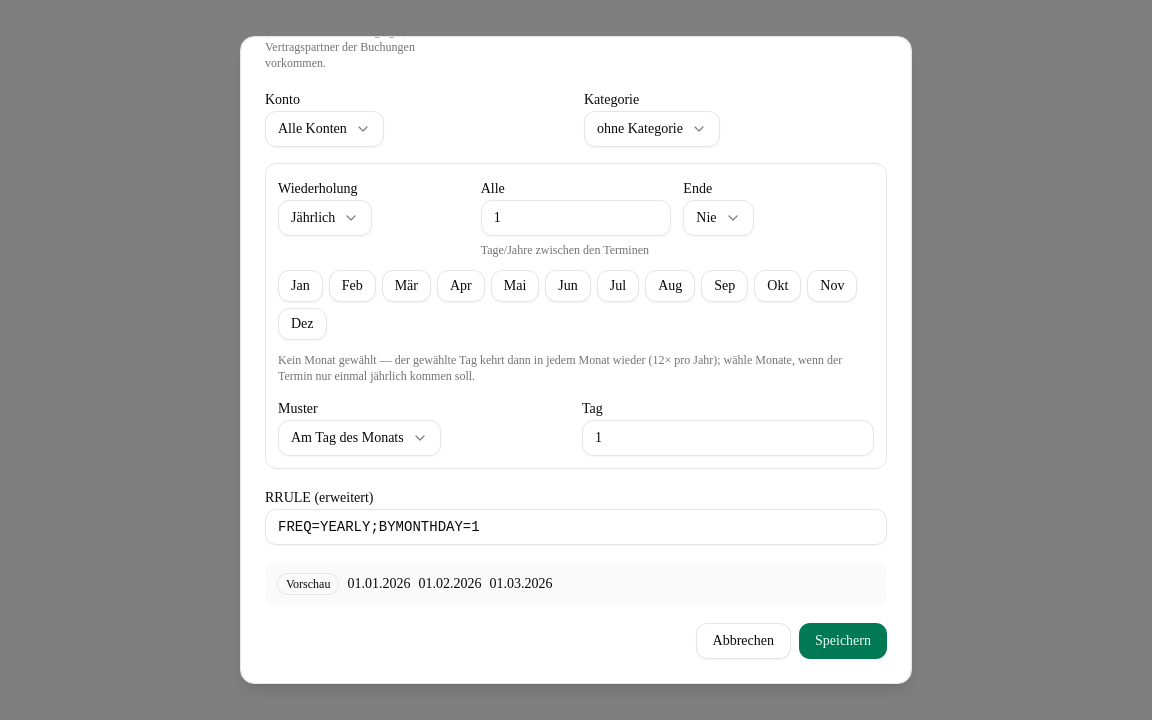
Test: plan dialog: invalid builder input must not crash the page › yearly garbage in the Tag field is contained the same way
The width and height of the screenshot is (1152, 720).
(page scrolled)
Step 1. Replace the text in the field labelled "Tag" with "45" → (728, 438), box [582,420,874,456]
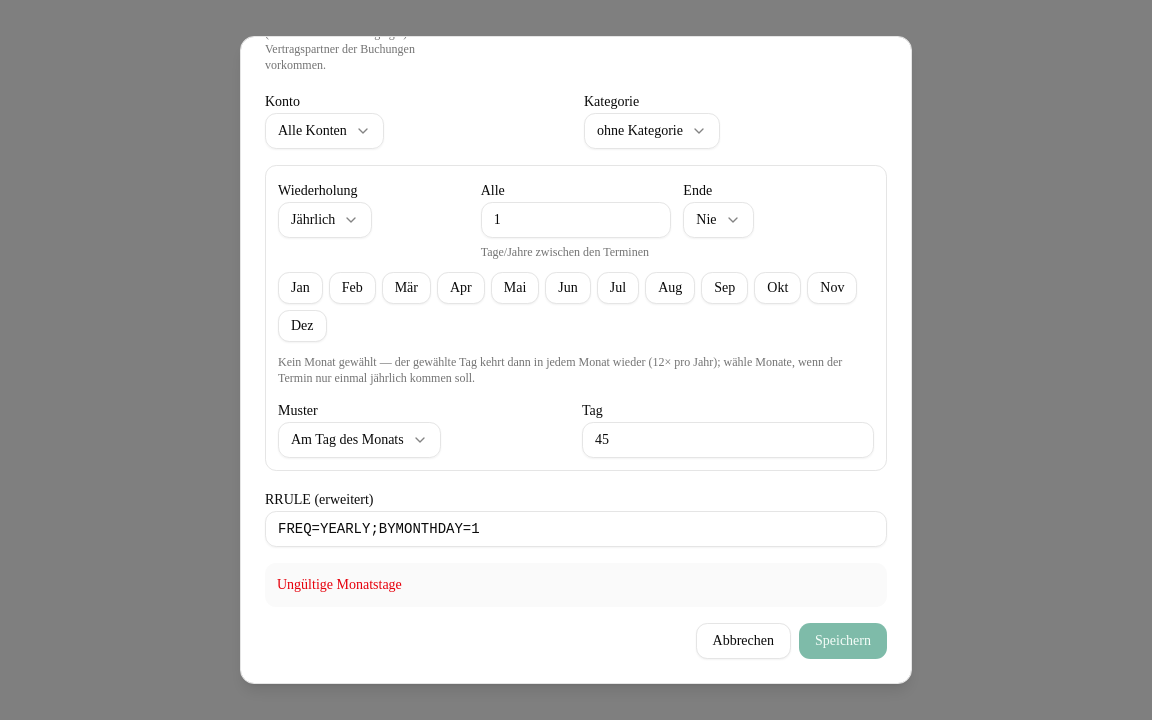
Result: the text "Ungültige Monatstage" is shown at [277,577,402,592]
Result: the button "Speichern" is disabled at [799,623,887,659]
